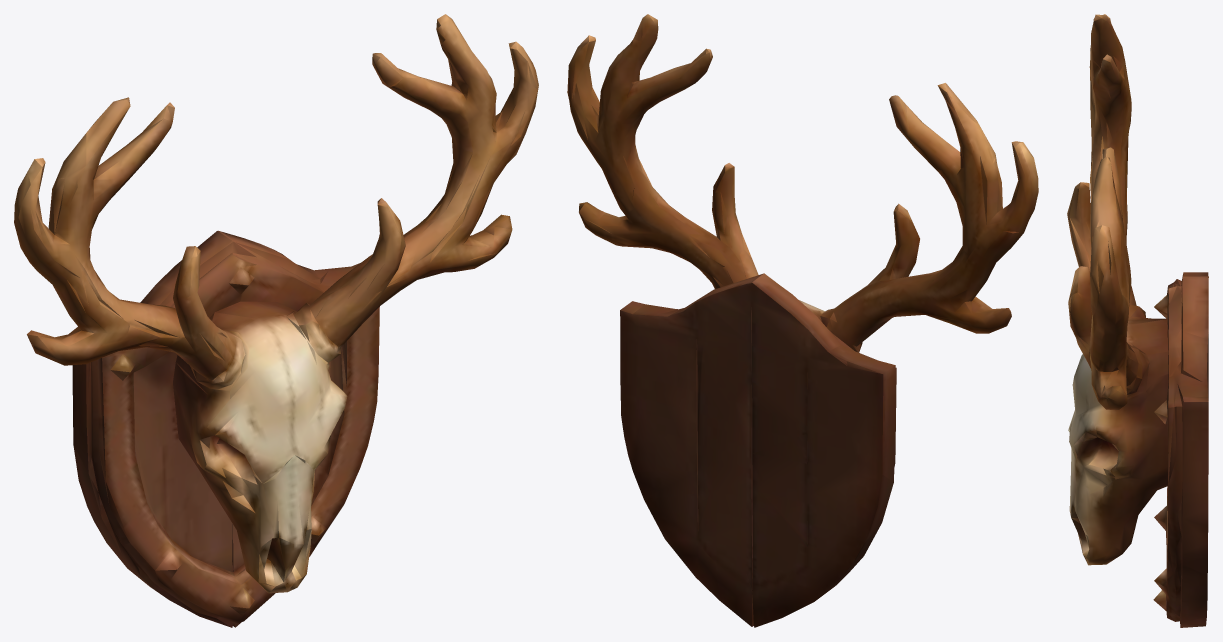
File: wall15.glb
The picture shows the model from 3 angles, left to right: view 1: azimuth 30°, elevation 25°; view 2: azimuth 150°, elevation 25°; view 3: azimuth 270°, elevation 25°; orthographic projection. The views are drawn at different scales.
Size of the model in its own units: 0.2536 by 0.2806 by 0.066.
Materials: 1 (1 with a texture image).
